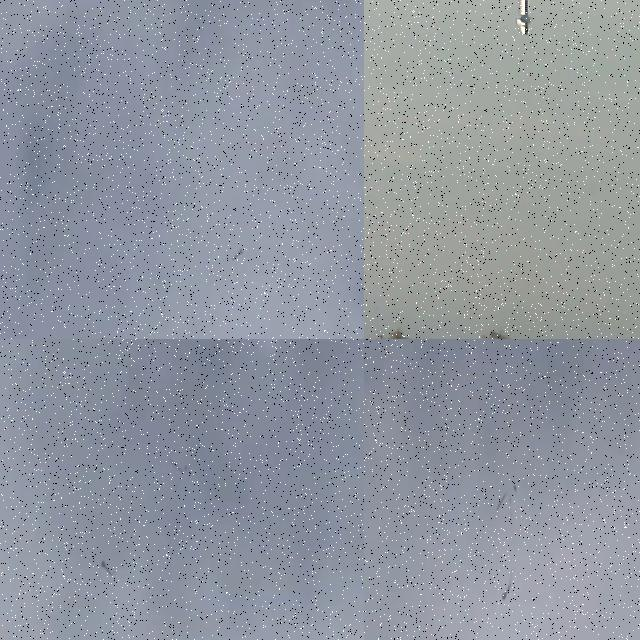Rocket: (515, 0, 534, 35), (101, 560, 112, 577), (502, 583, 510, 600), (232, 248, 243, 260)
